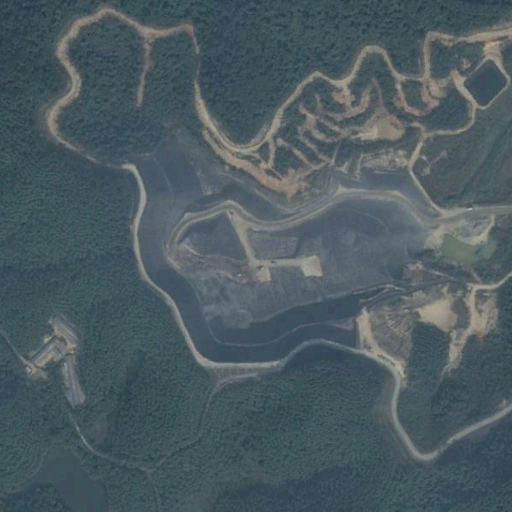lf: (135, 133, 435, 387)
